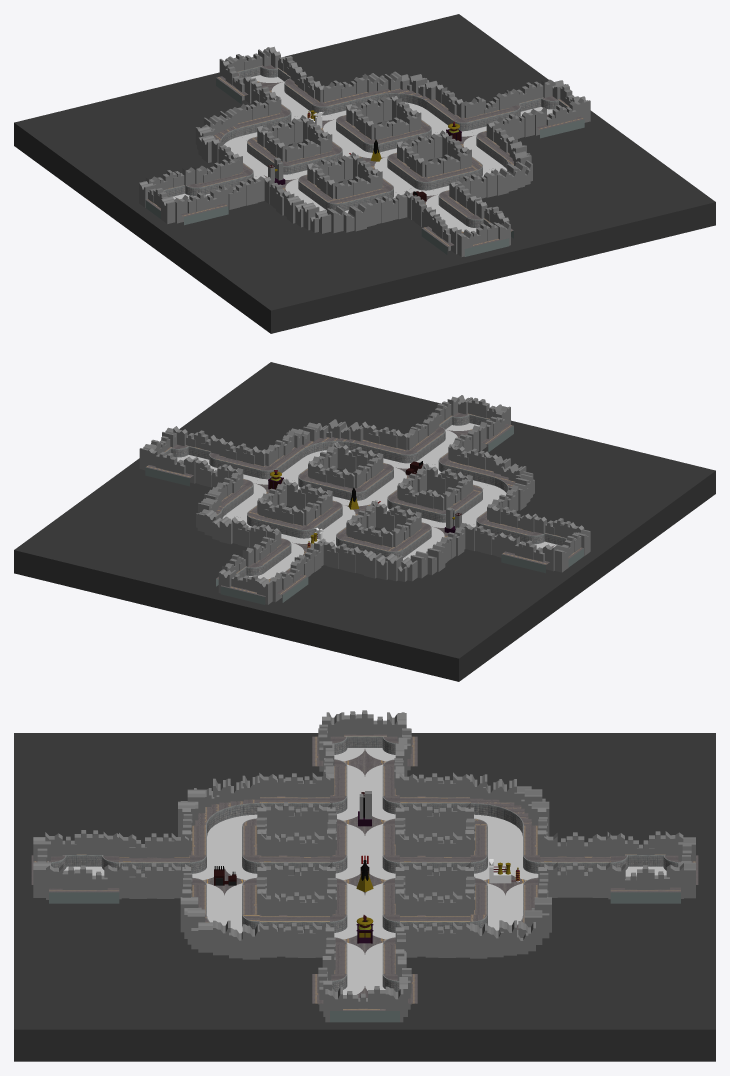
File: Delta-Scar-Map.fbx
3 renders of one model, top to bottom at view 1: azimuth 30°, elevation 25°; view 2: azimuth 150°, elevation 25°; view 3: azimuth 270°, elevation 25°, orthographic. The views are drawn at different scales.
Visible parts, largest first — view 1: Floor, Plane_017_8, Plane_30, Plane_13, Plane_56, Plane_76, Plane_43, Plane_73, Plane_5, Plane_007_2, Plane_23, Plane3_30 (+14 smaller); view 2: Floor, Plane_017_8, Plane_73, Plane_56, Plane_13, Plane_30, Plane_27, Plane_76, Plane_23, Plane_5, Plane_007_2, Plane2_16 (+13 smaller); view 3: Floor, Plane_22, Plane_59, Plane_69, Plane_37, Plane_5, Plane4_33, Plane_26, Plane_14, Plane3_30, Plane_10, Plane_6 (+28 smaller).
Part boxes in pixels (x1=…): Floor: x1=14, y1=14, x2=715, y2=333; Plane_017_8: x1=380, y1=158, x2=424, y2=192; Plane_30: x1=329, y1=121, x2=370, y2=154; Plane_13: x1=469, y1=137, x2=509, y2=170; Plane_56: x1=418, y1=99, x2=460, y2=133; Plane_76: x1=278, y1=83, x2=319, y2=117; Plane_43: x1=239, y1=143, x2=281, y2=176; Plane_73: x1=432, y1=196, x2=474, y2=228; Plane_5: x1=382, y1=177, x2=449, y2=208; Plane_007_2: x1=331, y1=139, x2=397, y2=171; Plane_23: x1=279, y1=102, x2=346, y2=133; Plane3_30: x1=214, y1=126, x2=257, y2=155; Floor: x1=14, y1=362, x2=715, y2=681; Plane_017_8: x1=358, y1=469, x2=401, y2=502; Plane_73: x1=409, y1=431, x2=451, y2=465; Plane_56: x1=221, y1=485, x2=260, y2=518; Plane_13: x1=269, y1=447, x2=312, y2=481; Plane_30: x1=307, y1=507, x2=349, y2=540; Plane_27: x1=450, y1=491, x2=491, y2=524; Plane_76: x1=256, y1=544, x2=298, y2=575; Plane_23: x1=281, y1=525, x2=347, y2=556; Plane_5: x1=383, y1=449, x2=450, y2=481; Plane_007_2: x1=332, y1=488, x2=398, y2=519; Plane2_16: x1=298, y1=437, x2=358, y2=459; Floor: x1=14, y1=733, x2=715, y2=1061; Plane_22: x1=191, y1=825, x2=259, y2=866; Plane_59: x1=330, y1=736, x2=398, y2=777; Plane_69: x1=334, y1=944, x2=395, y2=985; Plane_37: x1=471, y1=825, x2=537, y2=866; Plane_5: x1=189, y1=855, x2=259, y2=896; Plane4_33: x1=195, y1=799, x2=259, y2=836; Plane_26: x1=332, y1=825, x2=395, y2=866; Plane_14: x1=330, y1=914, x2=399, y2=955; Plane3_30: x1=470, y1=798, x2=531, y2=836; Plane_10: x1=192, y1=885, x2=257, y2=925; Plane_6: x1=471, y1=885, x2=538, y2=925.
Size of what is drawn, in the model's own units: 10000 by 10000 by 1009.
